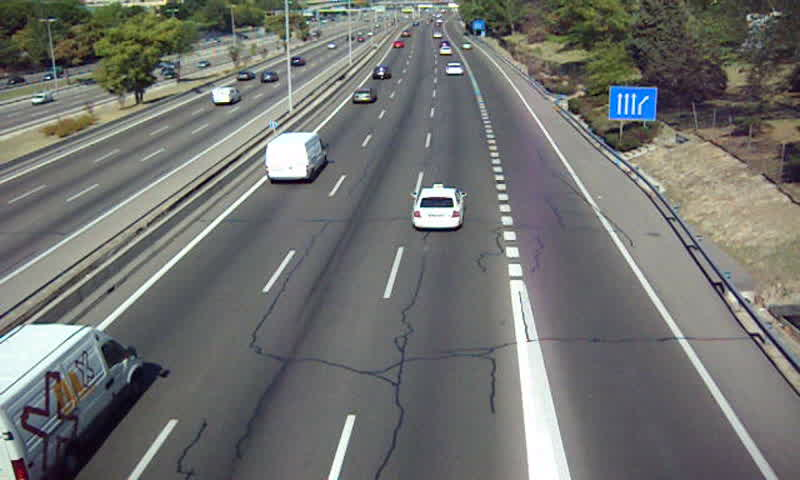car: (413, 187, 463, 229), (350, 88, 375, 107), (373, 64, 392, 82), (444, 62, 465, 76)
van: (1, 324, 143, 480), (266, 133, 326, 182)
